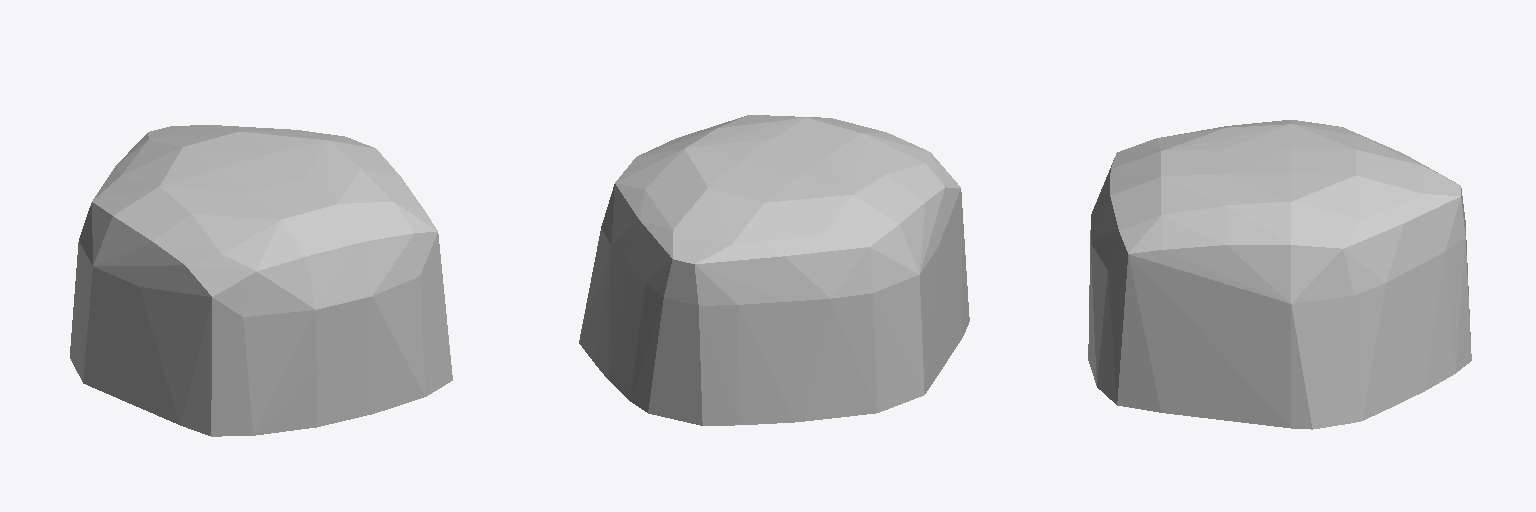
File: Tomato_19_collision_3.obj
3 views of the same model, side by side, from view 1: azimuth 30°, elevation 25°; view 2: azimuth 150°, elevation 25°; view 3: azimuth 270°, elevation 25° (orthographic).
Bounding box in the file's own units: 0.0071 × 0.0039 × 0.0072.